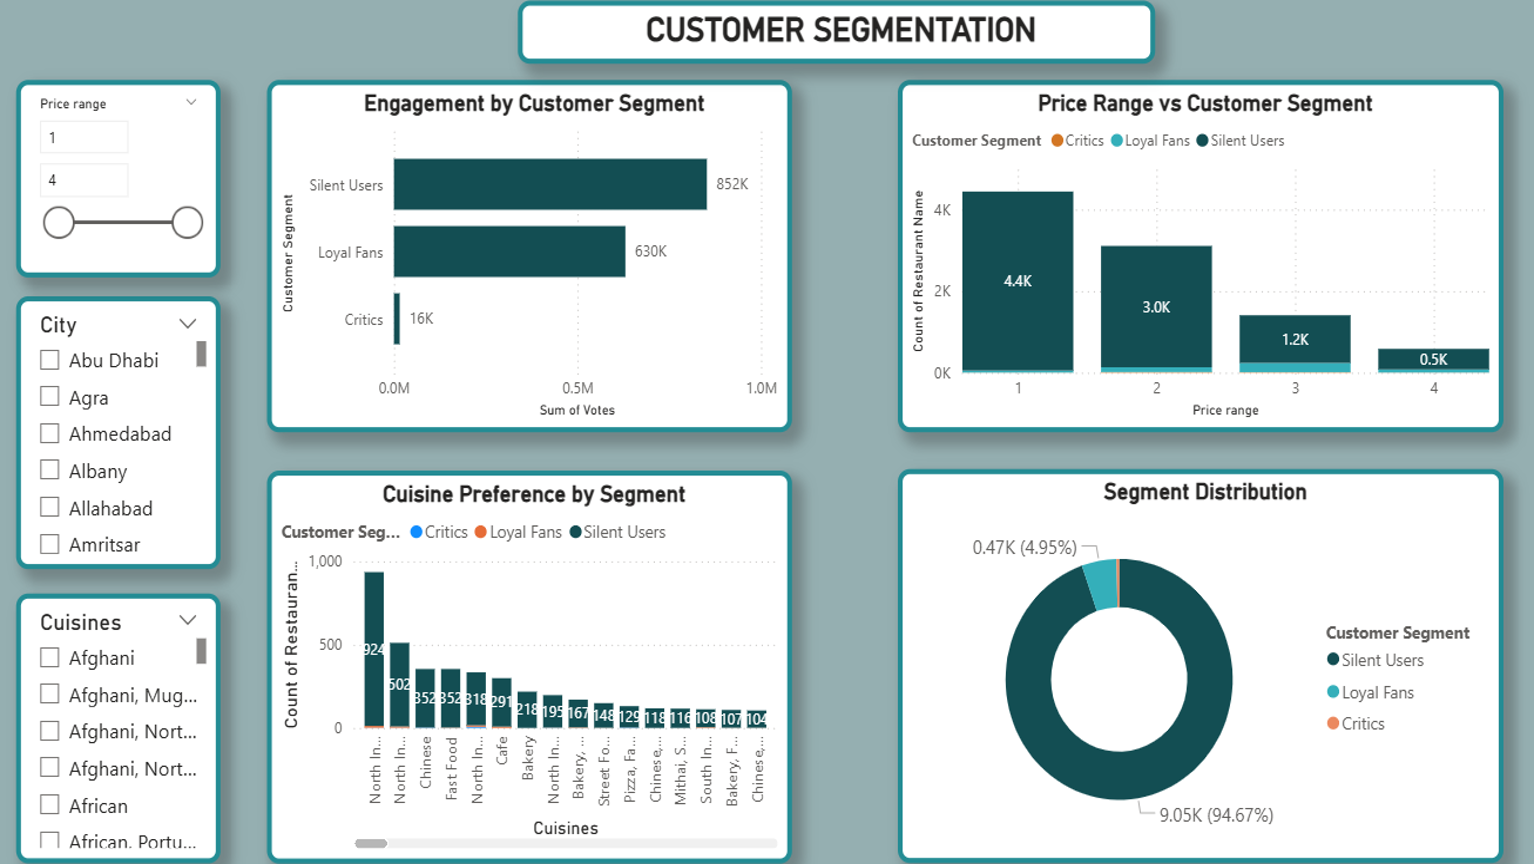

This screenshot's page, from the dashboard's own definition file:
{"tool":"powerbi","page":{"name":"Page 4","canvas":[1280,720],"ordinal":3},"visuals":[{"type":"donutChart","title":"Segment Distribution","fields":{"Category":["zomato.Customer Segment"],"Y":["CountNonNull(zomato.Restaurant Name)"]},"box":[748.8,410.2,504.9,309.8],"z":0},{"type":"clusteredBarChart","title":"Engagement by Customer Segment","fields":{"Category":["zomato.Customer Segment"],"Y":["Sum(zomato.Votes)"]},"box":[222,104.1,437.8,276.8],"z":1000},{"type":"columnChart","title":"Cuisine Preference by Segment","fields":{"Category":["zomato.Cuisines"],"Series":["zomato.Customer Segment"],"Y":["CountNonNull(zomato.Restaurant Name)"]},"box":[222.3,410.9,437.7,308.7],"z":2000},{"type":"columnChart","title":"Price Range vs Customer Segment ","fields":{"Category":["zomato.Price range"],"Series":["zomato.Customer Segment"],"Y":["CountNonNull(zomato.Restaurant Name)"]},"box":[748.8,104.1,504.9,276.8],"z":3000},{"type":"textbox","title":"CUSTOMER SEGMENTATION","box":[432.2,41.8,531,49.4],"z":4000},{"type":"slicer","fields":{"Values":["zomato.City"]},"box":[13.4,273.6,170.7,214.6],"z":5000},{"type":"slicer","fields":{"Values":["zomato.Cuisines"]},"box":[13.4,507.8,170.7,212.2],"z":6000},{"type":"slicer","fields":{"Values":["zomato.Price range"]},"box":[13.4,104.1,170.7,154.9],"z":7000}]}

Visuals, with their boxes in screenshot pixels (x1, y1, x2, y2), scaled from the page's 1280x720 canvas onto the 1534x864 screenshot:
"Segment Distribution" donutChart: x1=897, y1=492, x2=1502, y2=863
"Engagement by Customer Segment" clusteredBarChart: x1=266, y1=125, x2=791, y2=457
"Cuisine Preference by Segment" columnChart: x1=266, y1=493, x2=791, y2=863
"Price Range vs Customer Segment " columnChart: x1=897, y1=125, x2=1502, y2=457
"CUSTOMER SEGMENTATION" textbox: x1=518, y1=50, x2=1154, y2=109
slicer - zomato.City: x1=16, y1=328, x2=221, y2=586
slicer - zomato.Cuisines: x1=16, y1=609, x2=221, y2=863
slicer - zomato.Price range: x1=16, y1=125, x2=221, y2=311
